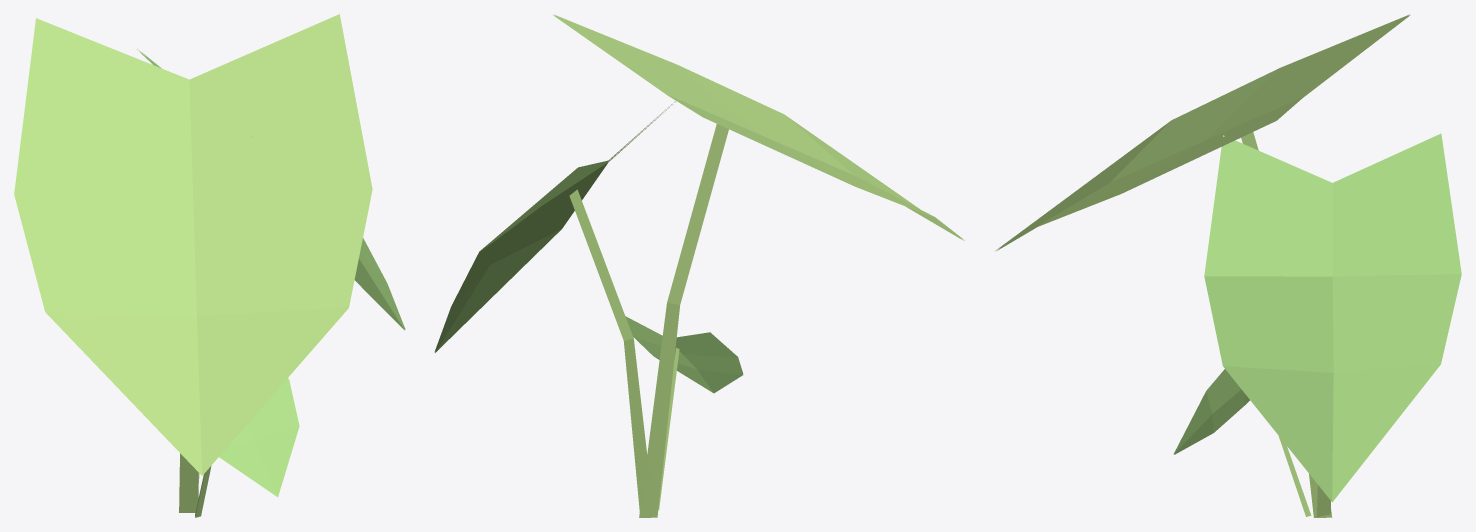
Rendered from Plant_c_TwoS_03.fbx.
3 renders of one model, left to right at view 1: azimuth 30°, elevation 25°; view 2: azimuth 150°, elevation 25°; view 3: azimuth 270°, elevation 25°, orthographic. The views are drawn at different scales.
Parts seen in each view (by area): view 1: Plant_c_TwoS_03; view 2: Plant_c_TwoS_03; view 3: Plant_c_TwoS_03.
Part boxes in pixels (x1=…): Plant_c_TwoS_03: x1=14, y1=14, x2=405, y2=517; Plant_c_TwoS_03: x1=434, y1=14, x2=963, y2=517; Plant_c_TwoS_03: x1=995, y1=14, x2=1461, y2=517.
Size of the model in its own units: 0.5374 by 0.5568 by 0.5205.
